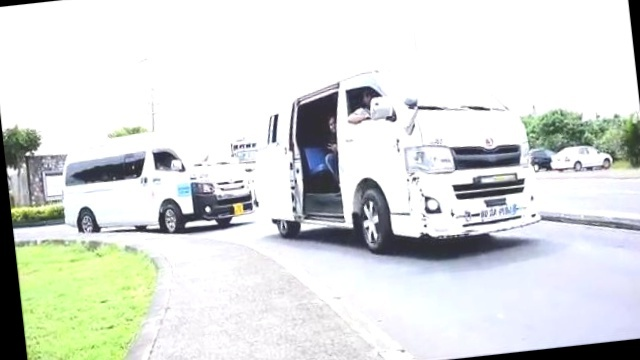van: (242, 58, 540, 265), (55, 118, 257, 245)
